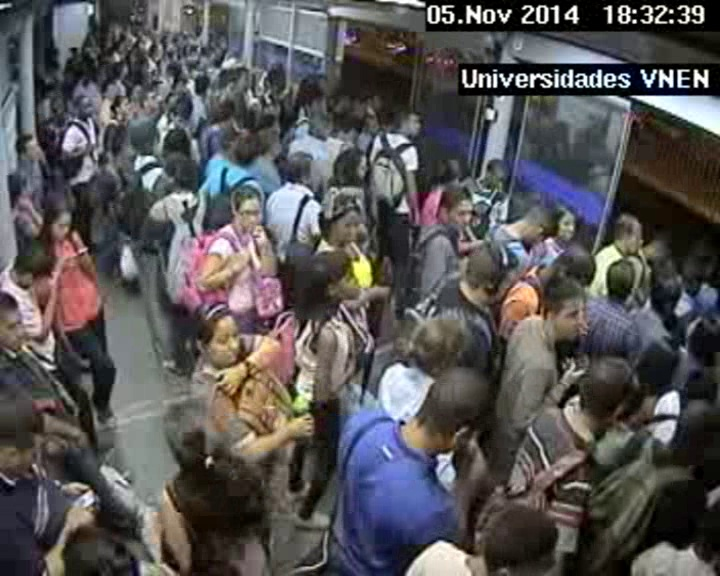person: (483, 493, 559, 576), (422, 369, 494, 453), (163, 402, 235, 471), (1, 396, 60, 475), (189, 301, 251, 369), (577, 358, 639, 423), (463, 241, 520, 310), (300, 252, 363, 314), (68, 516, 127, 576), (410, 313, 464, 378), (540, 282, 591, 343), (670, 409, 720, 459), (1, 291, 39, 354), (323, 194, 368, 245), (13, 243, 56, 290), (555, 243, 597, 291), (436, 188, 479, 233), (603, 210, 644, 254), (228, 186, 268, 231), (517, 203, 557, 246), (42, 194, 78, 241), (646, 268, 684, 310), (333, 148, 372, 188), (685, 315, 720, 357), (603, 258, 639, 297), (282, 151, 318, 189), (127, 117, 163, 153), (162, 158, 197, 195), (683, 242, 714, 279), (550, 207, 583, 240), (393, 106, 425, 139), (482, 158, 513, 188), (250, 115, 278, 147), (161, 124, 190, 154), (434, 157, 462, 188), (15, 133, 42, 165), (307, 109, 334, 141), (7, 169, 35, 198), (643, 233, 670, 263), (261, 68, 287, 97), (217, 71, 242, 101), (258, 96, 285, 122), (212, 101, 237, 127), (300, 89, 323, 113), (73, 95, 95, 120), (248, 69, 269, 93), (139, 89, 159, 111), (49, 98, 69, 117), (111, 95, 130, 115), (192, 75, 212, 94), (363, 97, 381, 116), (99, 80, 117, 98), (332, 92, 349, 111), (41, 76, 57, 94), (95, 157, 111, 174), (165, 62, 181, 78), (129, 82, 143, 98), (115, 62, 129, 78), (149, 44, 163, 59), (224, 47, 239, 59), (154, 79, 167, 92), (185, 80, 197, 94), (190, 43, 201, 56), (84, 67, 95, 79), (89, 22, 99, 34), (149, 18, 160, 28), (69, 46, 79, 56), (114, 23, 123, 33), (87, 34, 96, 44), (177, 100, 186, 110), (113, 41, 122, 50), (181, 46, 190, 55), (163, 33, 171, 43), (128, 13, 136, 22), (124, 25, 132, 34), (47, 39, 55, 47), (176, 34, 184, 42), (136, 29, 143, 37), (136, 41, 144, 48), (142, 32, 149, 40), (199, 48, 206, 55), (107, 22, 113, 29), (208, 48, 214, 55)
